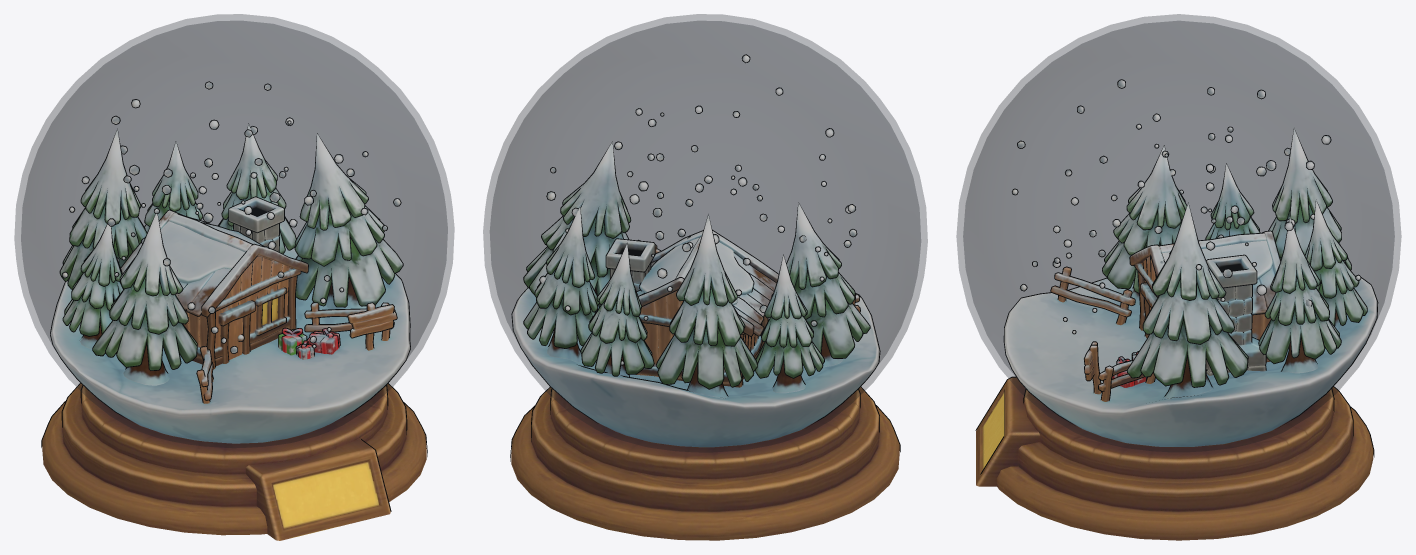
The model's file is snow-globe.v1.glb.
3 views of the same model, side by side, from view 1: azimuth 30°, elevation 25°; view 2: azimuth 150°, elevation 25°; view 3: azimuth 270°, elevation 25° (orthographic).
Parts seen in each view (by area): view 1: glass_glass_0, christmass_ball_inside_0, christmass_ball_ouline_0; view 2: glass_glass_0, christmass_ball_inside_0, christmass_ball_ouline_0; view 3: glass_glass_0, christmass_ball_inside_0, christmass_ball_ouline_0.
Boxes of the visible parts, x1,y1,x2,y2 form: glass_glass_0: [14, 14, 454, 447]; christmass_ball_inside_0: [42, 82, 426, 540]; christmass_ball_ouline_0: [41, 81, 427, 511]; glass_glass_0: [483, 14, 927, 452]; christmass_ball_inside_0: [511, 55, 899, 540]; christmass_ball_ouline_0: [510, 54, 900, 461]; glass_glass_0: [956, 14, 1401, 451]; christmass_ball_inside_0: [976, 80, 1377, 540]; christmass_ball_ouline_0: [975, 79, 1378, 474].
Size of the model in its own units: 200 by 210 by 200.
Materials: 3 (1 with a texture image).
